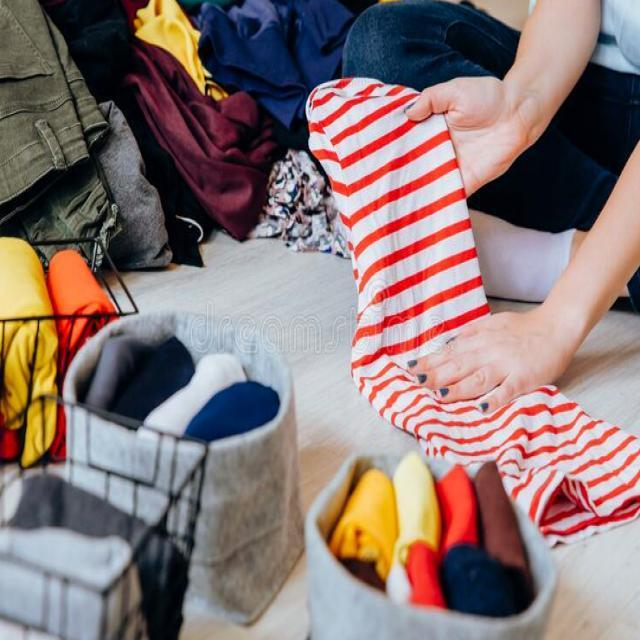clothes: (0, 0, 273, 261), (299, 66, 472, 369), (122, 17, 278, 214), (456, 388, 640, 532), (0, 0, 111, 223), (346, 472, 510, 614), (106, 325, 251, 455), (0, 234, 103, 334)
